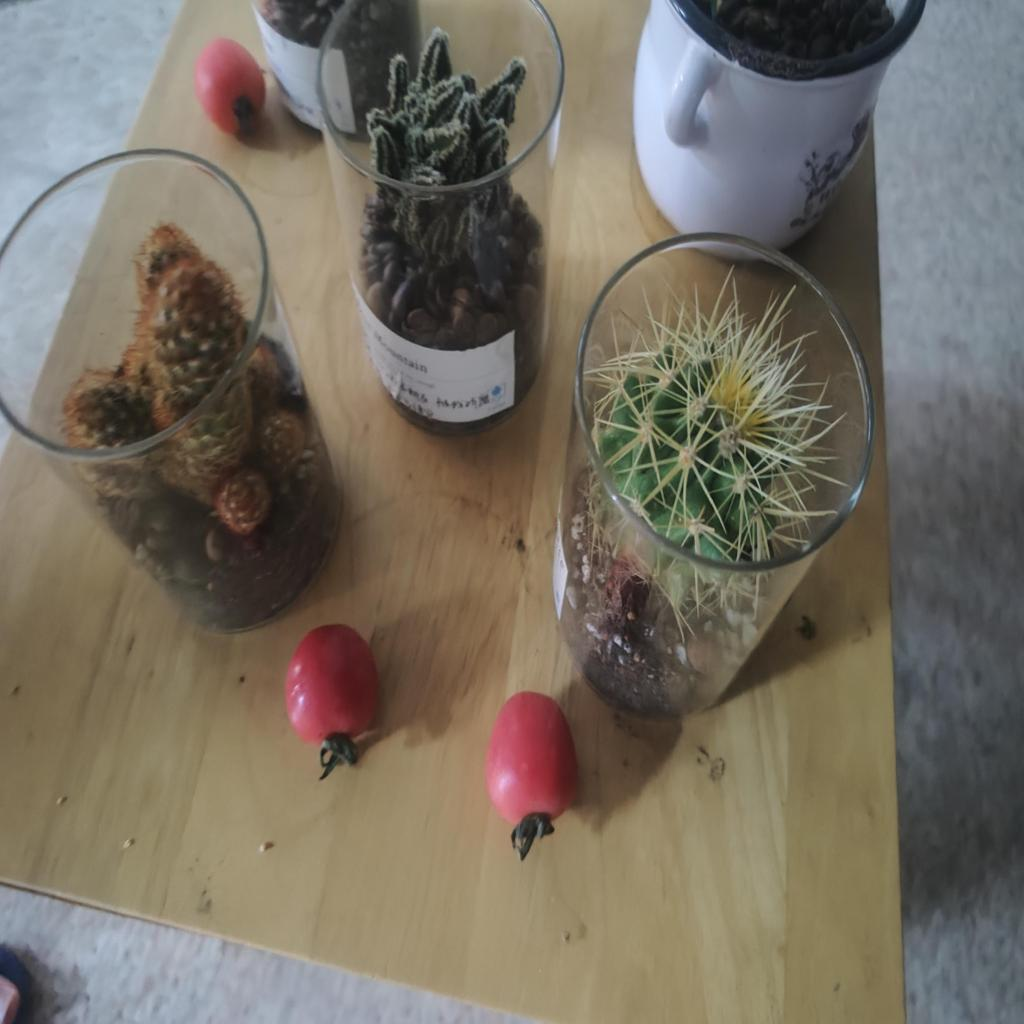tomato: (480, 684, 596, 836), (273, 622, 396, 749), (185, 33, 275, 136)
